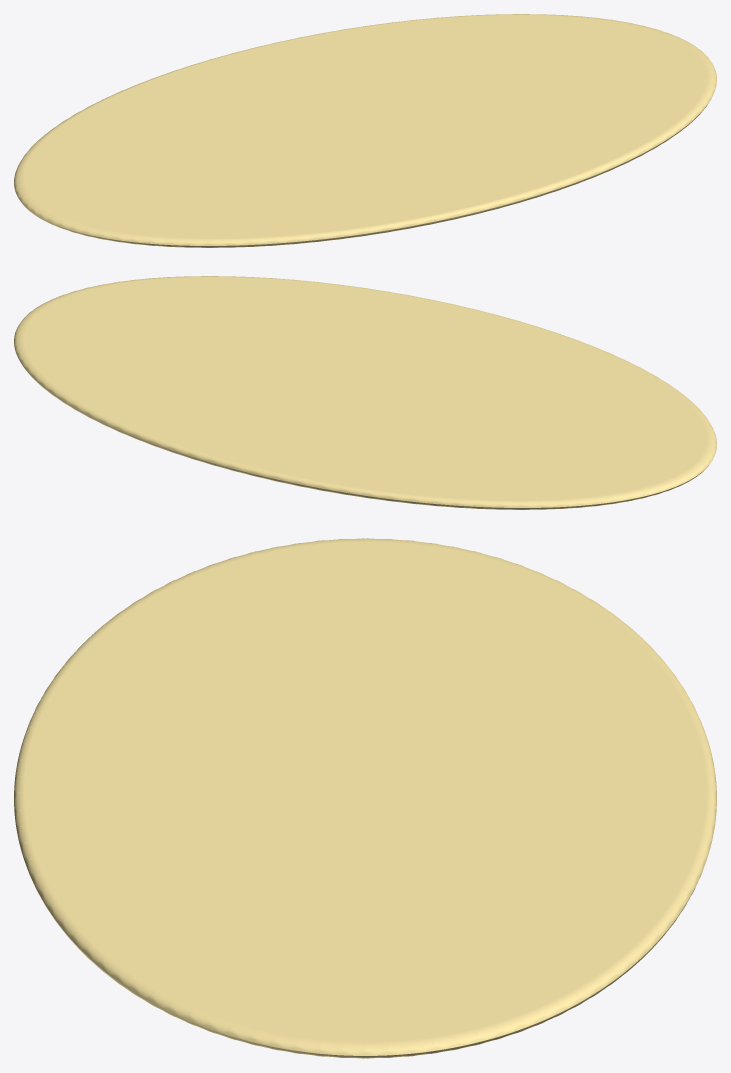
Rendered from rug.glb.
3 renders of one model, top to bottom at view 1: azimuth 30°, elevation 25°; view 2: azimuth 150°, elevation 25°; view 3: azimuth 270°, elevation 25°, orthographic. The views are drawn at different scales.
Visible parts, largest first — view 1: Rug; view 2: Rug; view 3: Rug.
Boxes of the visible parts, <box> form: Rug: <box>14,14,716,247</box>; Rug: <box>14,276,716,509</box>; Rug: <box>14,538,716,1058</box>.
Bounding box in the file's own units: 5.2 × 0.06 × 3.
